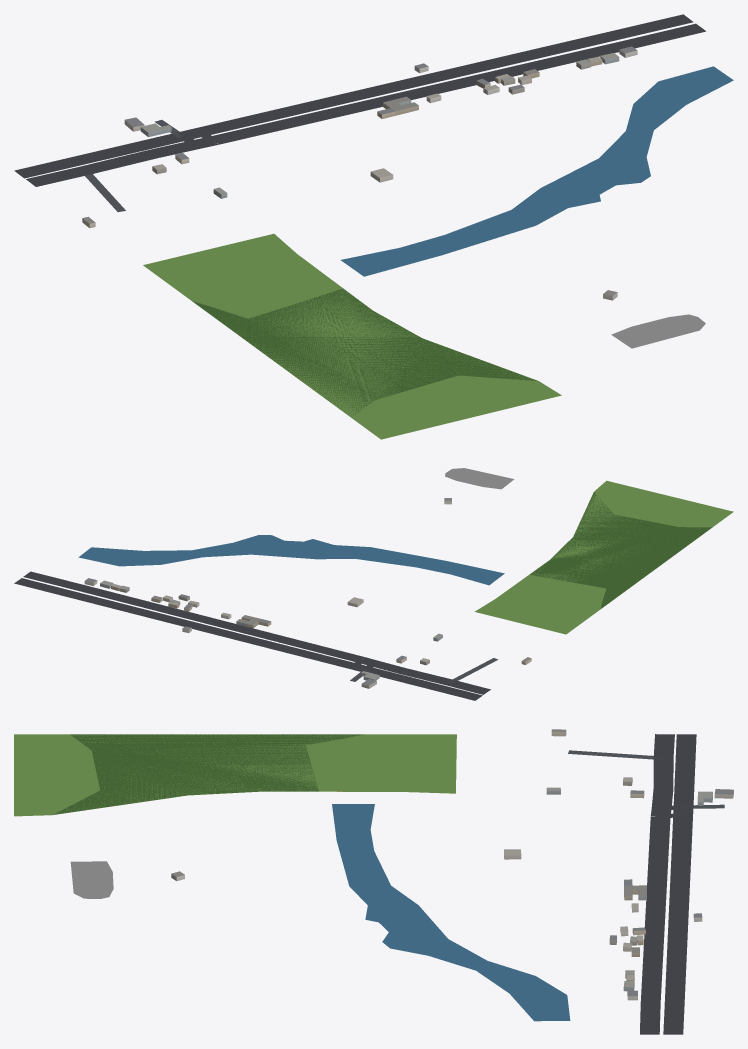
3 views of the same model, one above another, from view 1: azimuth 30°, elevation 25°; view 2: azimuth 150°, elevation 25°; view 3: azimuth 270°, elevation 25° (orthographic). The views are drawn at different scales.
Parts seen in each view (by area): view 1: landuse, roads, water, buildings_walls, buildings_roofs; view 2: landuse, roads, water, buildings_walls, buildings_roofs; view 3: landuse, roads, water, buildings_roofs, buildings_walls.
Boxes of the visible parts, <box> form: landuse: <box>143,233,705,439</box>; roads: <box>14,14,706,211</box>; water: <box>341,66,733,276</box>; buildings_walls: <box>82,49,637,300</box>; buildings_roofs: <box>83,46,637,295</box>; landuse: <box>445,468,733,634</box>; roads: <box>14,571,498,700</box>; water: <box>78,535,504,585</box>; buildings_walls: <box>84,501,531,688</box>; buildings_roofs: <box>85,498,531,685</box>; landuse: <box>14,734,456,898</box>; roads: <box>568,734,724,1034</box>; water: <box>332,804,570,1021</box>; buildings_roofs: <box>171,729,733,996</box>; buildings_walls: <box>171,731,733,1000</box>.
Bounding box in the file's own units: 502 × 3.2 × 507.
